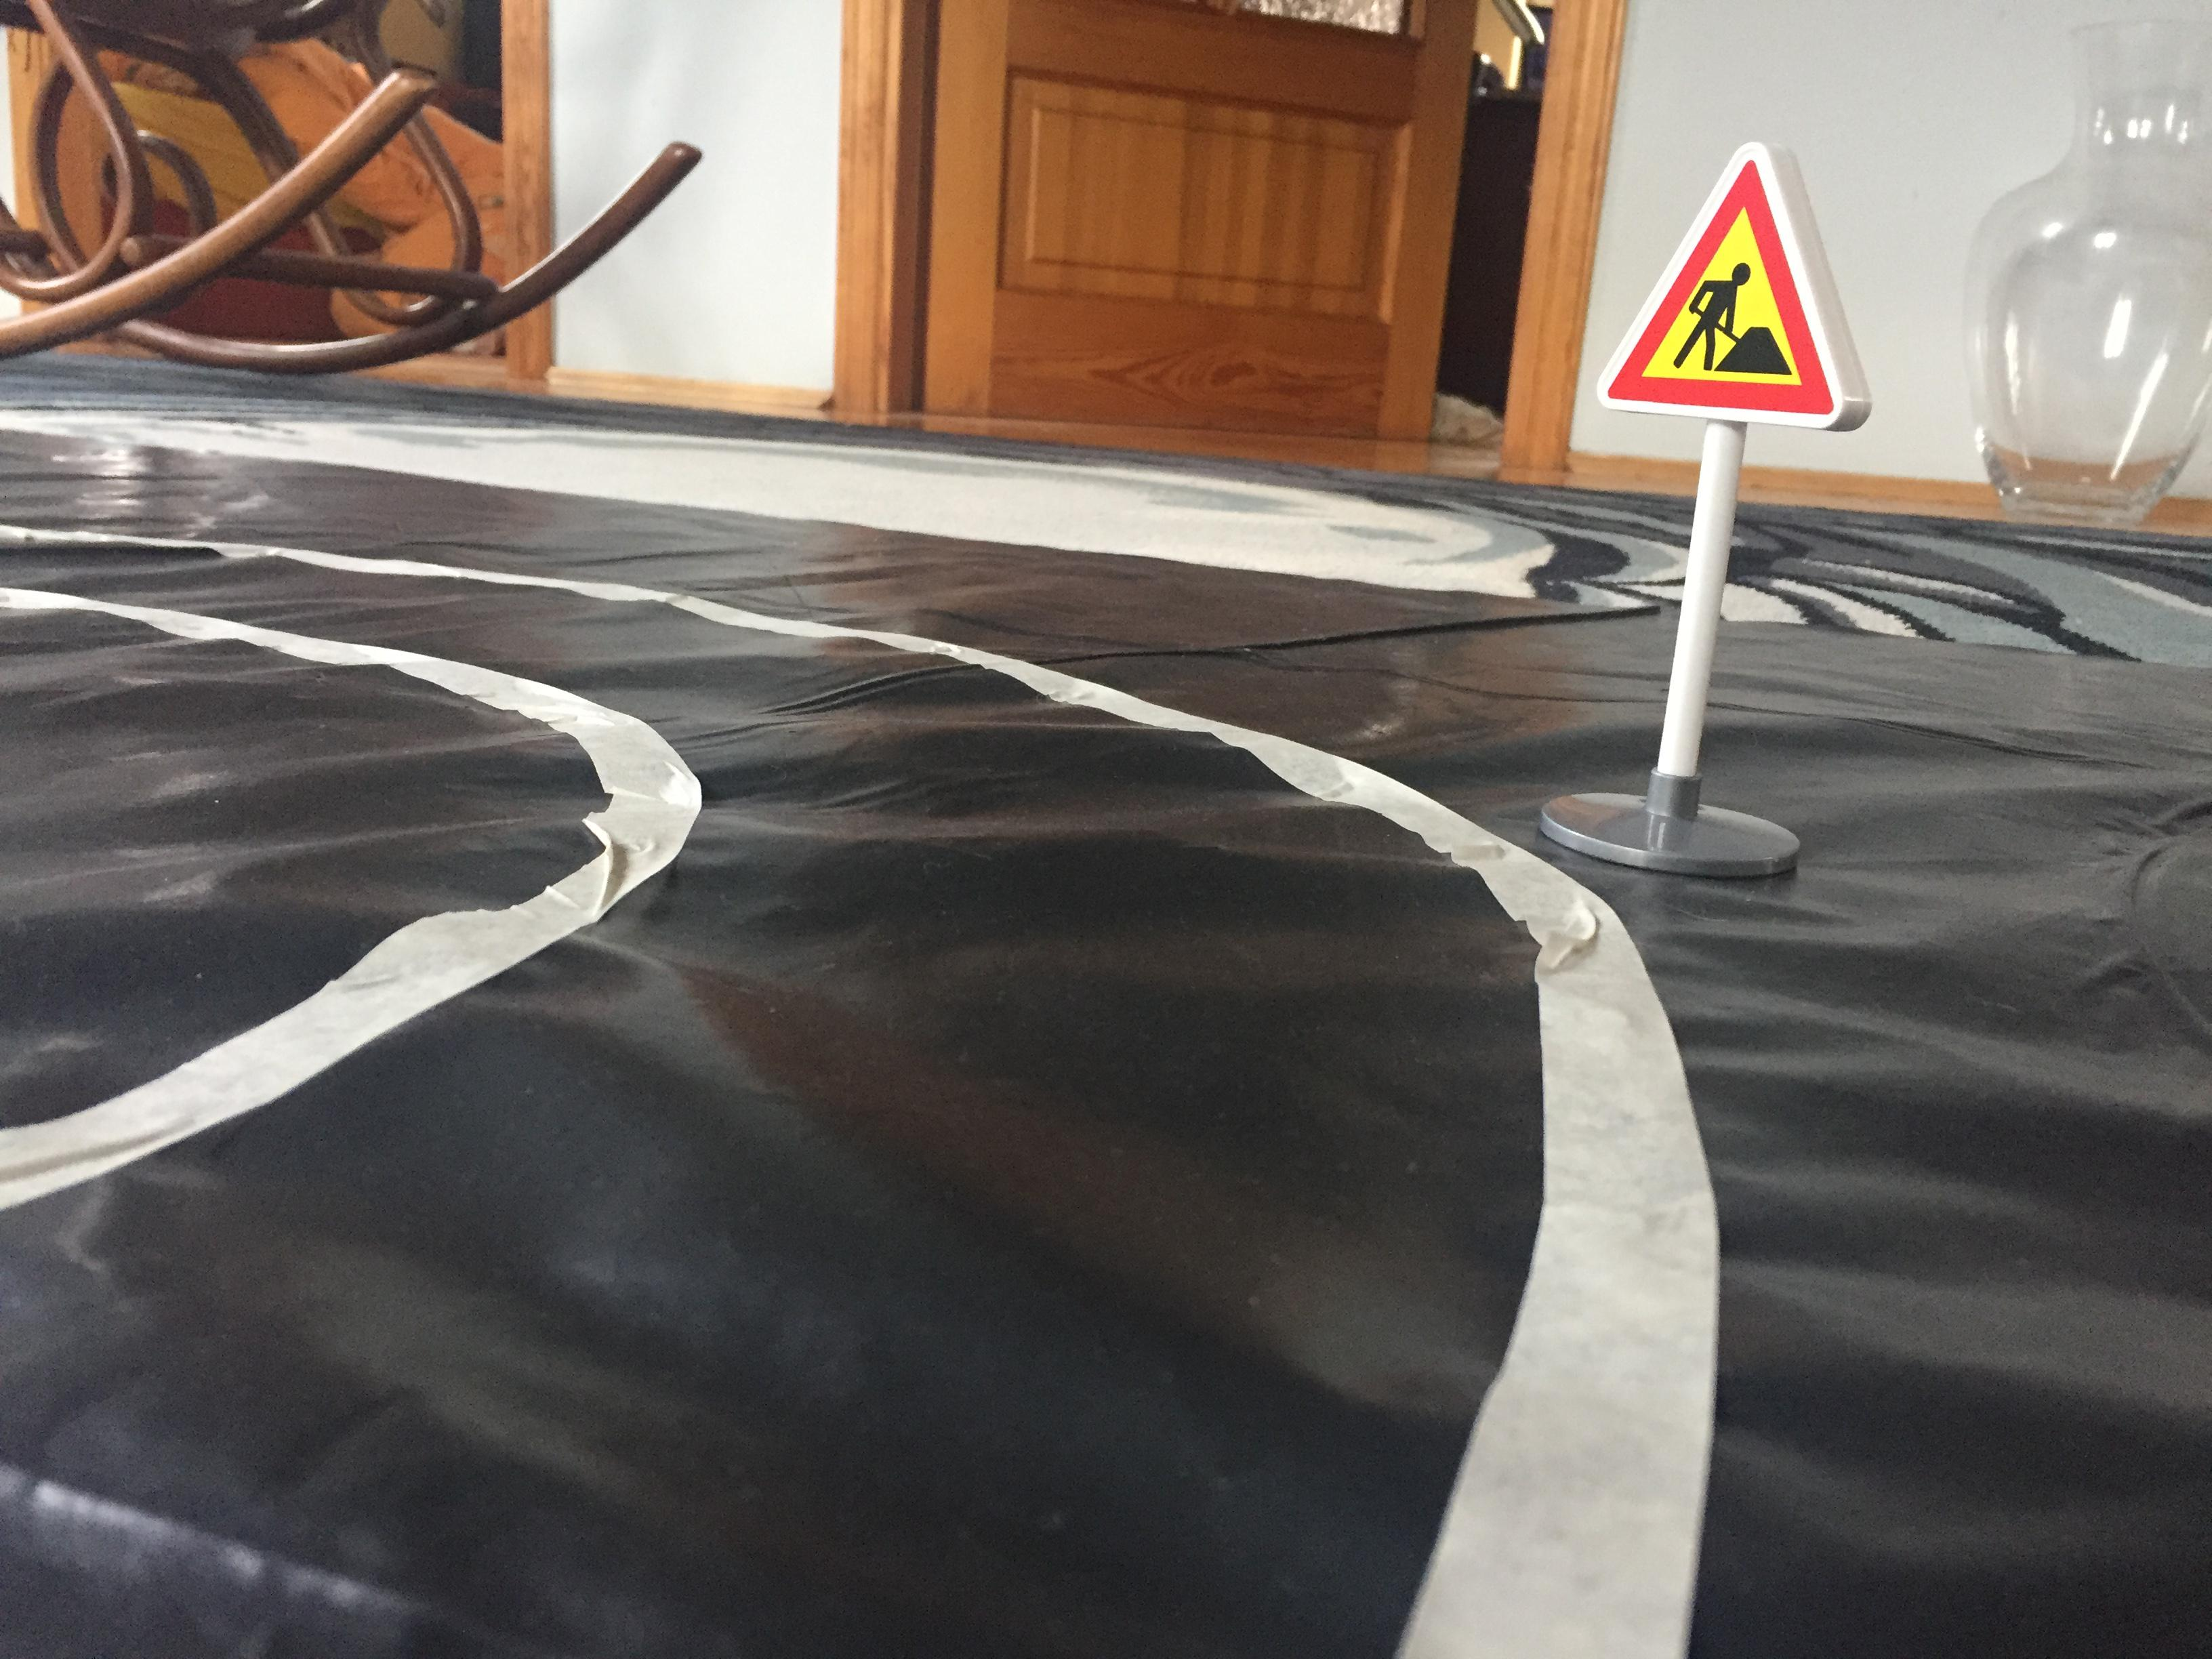work: (1583, 129, 1895, 437)
